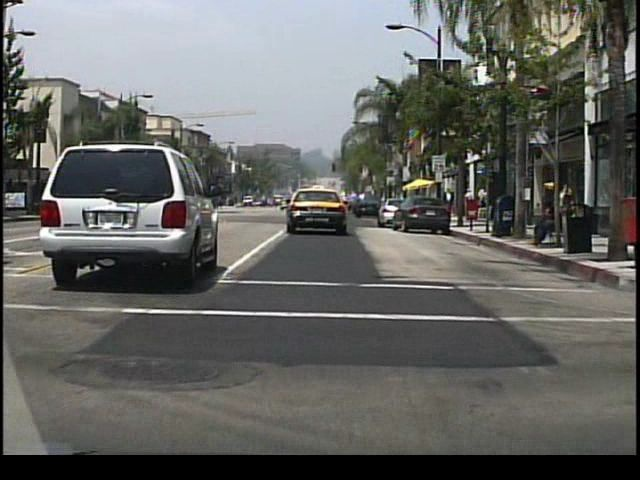person: (529, 194, 566, 248), (555, 177, 571, 235), (443, 184, 456, 218), (474, 182, 484, 218)
